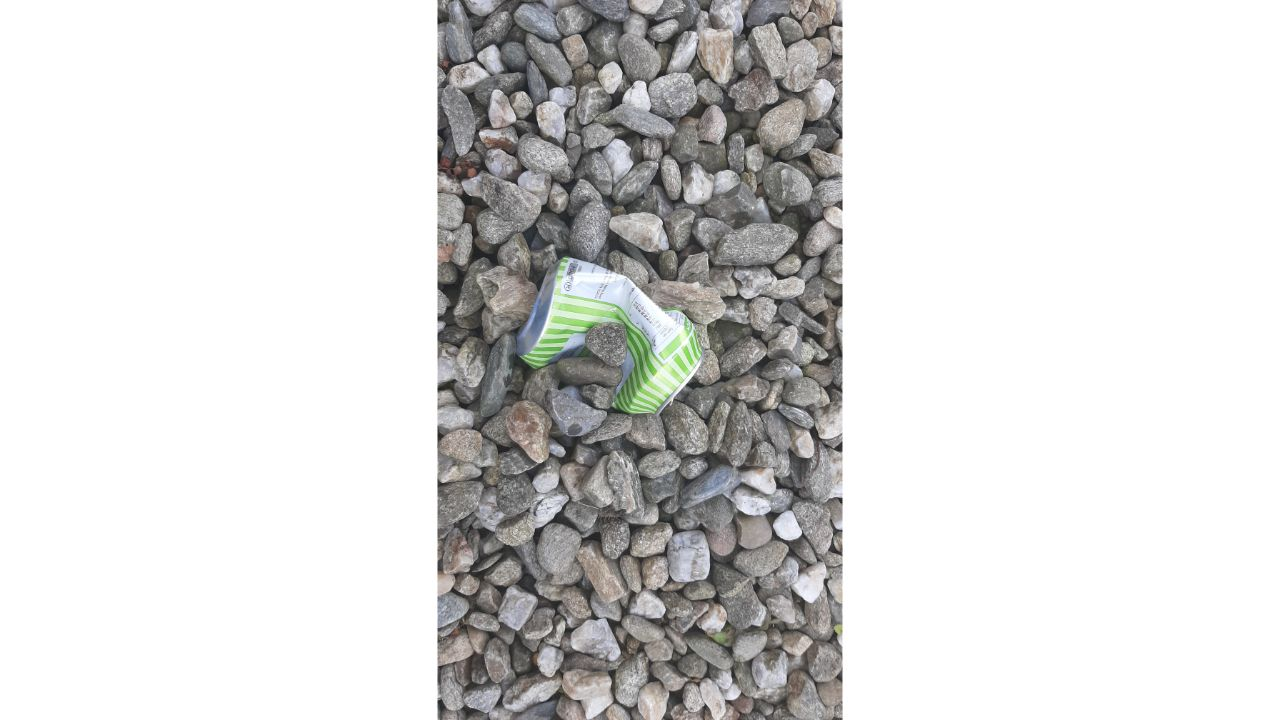Can: (509, 248, 714, 434)
